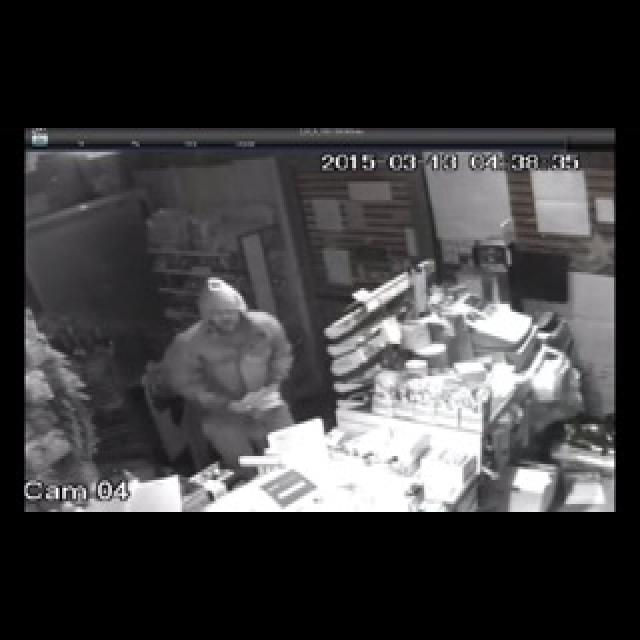thief: (158, 287, 314, 493)
